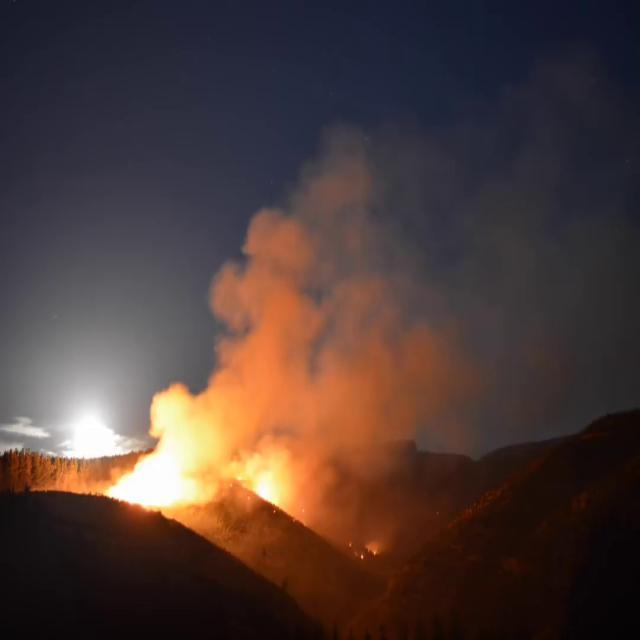Fire: (106, 396, 209, 512), (241, 461, 277, 504), (364, 542, 379, 556)
Smoke: (210, 152, 550, 436)
